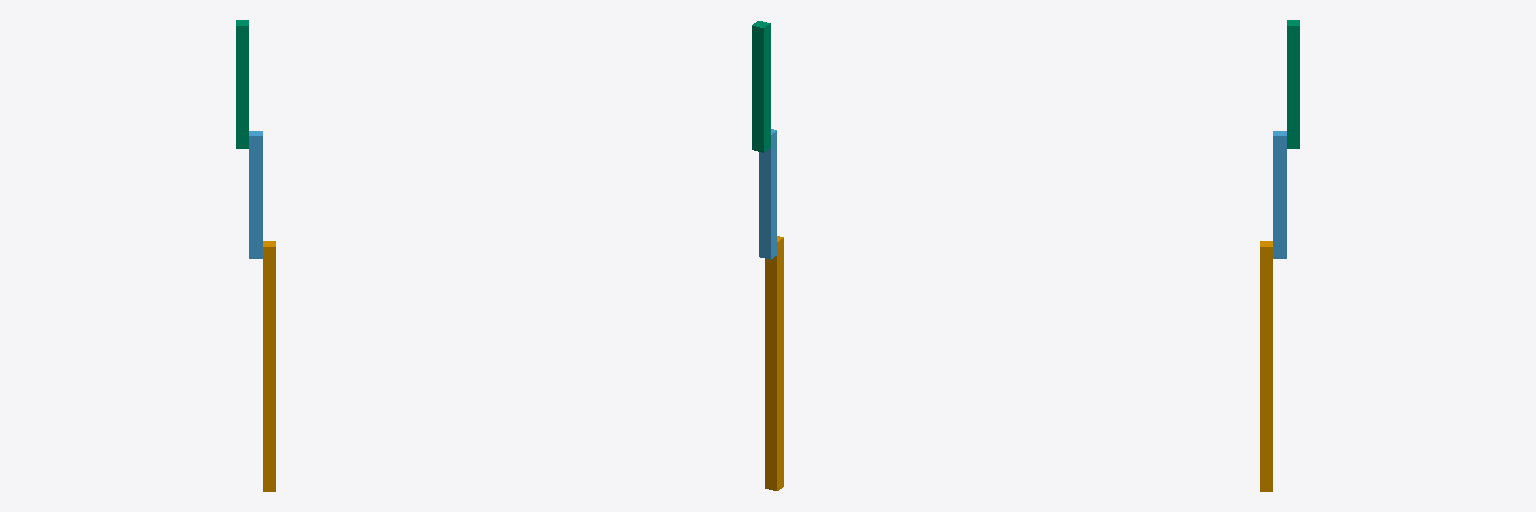
URDF robot description (manipulator):
<?xml version="1.0" encoding="utf-8"?>
<!-- =================================================================================== -->
<!-- |    This document was autogenerated by xacro from man.xacro                      | -->
<!-- |    EDITING THIS FILE BY HAND IS NOT RECOMMENDED                                 | -->
<!-- =================================================================================== -->
<robot name="manipulator" xmlns:xacro="http://www.ros.org/wiki/xacro">
  <!-- Base Link -->
  <link name="base_link">
    <visual>
      <origin rpy="0 0 0" xyz="0 0 1.0"/>
      <geometry>
        <box size="0.1 0.1 2"/>
      </geometry>
    </visual>
    <collision>
      <origin rpy="0 0 0" xyz="0 0 1.0"/>
      <geometry>
        <box size="0.1 0.1 2"/>
      </geometry>
    </collision>
    <inertial>
      <origin rpy="0 0 0" xyz="0 0 1.0"/>
      <mass value="1"/>
      <inertia ixx="1.0" ixy="0.0" ixz="0.0" iyy="1.0" iyz="0.0" izz="1.0"/>
    </inertial>
  </link>
  <!-- Joint between Base Link and Middle Link -->
  <joint name="joint_base_mid" type="revolute">
    <parent link="base_link"/>
    <child link="mid_link"/>
    <origin rpy="0 0 0" xyz="0 0.1 1.95"/>
    <axis xyz="0 1 0"/>
    <dynamics damping="0.7"/>
    <limit effort="100.0" lower="-3.14" upper="3.14" velocity="0.5"/>
  </joint>
  <!-- Middle Link -->
  <link name="mid_link">
    <visual>
      <origin rpy="0 0 0" xyz="0 0 0.45"/>
      <geometry>
        <box size="0.1 0.1 1"/>
      </geometry>
    </visual>
    <collision>
      <origin rpy="0 0 0" xyz="0 0 0.45"/>
      <geometry>
        <box size="0.1 0.1 1"/>
      </geometry>
    </collision>
    <inertial>
      <origin rpy="0 0 0" xyz="0 0 0.45"/>
      <mass value="1"/>
      <inertia ixx="1.0" ixy="0.0" ixz="0.0" iyy="1.0" iyz="0.0" izz="1.0"/>
    </inertial>
  </link>
  <!-- Joint between Middle Link and Top Link -->
  <joint name="joint_mid_top" type="revolute">
    <parent link="mid_link"/>
    <child link="top_link"/>
    <origin rpy="0 0 0" xyz="0 0.1 0.9"/>
    <axis xyz="0 1 0"/>
    <dynamics damping="0.7"/>
    <limit effort="100.0" lower="-3.14" upper="3.14" velocity="0.5"/>
  </joint>
  <!-- Top Link -->
  <link name="top_link">
    <visual>
      <origin rpy="0 0 0" xyz="0 0 0.45"/>
      <geometry>
        <box size="0.1 0.1 1"/>
      </geometry>
    </visual>
    <collision>
      <origin rpy="0 0 0" xyz="0 0 0.45"/>
      <geometry>
        <box size="0.1 0.1 1"/>
      </geometry>
    </collision>
    <inertial>
      <origin rpy="0 0 0" xyz="0 0 0.45"/>
      <mass value="1"/>
      <inertia ixx="1.0" ixy="0.0" ixz="0.0" iyy="1.0" iyz="0.0" izz="1.0"/>
    </inertial>
  </link>
</robot>

--- Render facts (derived) ---
3 views of the same robot in one strip: view 1: azimuth 90°, elevation 25°; view 2: azimuth 150°, elevation 25°; view 3: azimuth 270°, elevation 25° (orthographic).
Model manipulator with 3 links and 2 joints (2 revolute), rooted at base_link, posed all joints at 0.
Visible links, largest first — view 1: base_link, mid_link, top_link; view 2: base_link, top_link, mid_link; view 3: base_link, mid_link, top_link.
Boxes of the visible links, x1,y1,x2,y2 form: base_link: [263, 241, 275, 491]; mid_link: [249, 131, 262, 258]; top_link: [236, 20, 248, 148]; base_link: [765, 236, 783, 490]; top_link: [752, 21, 770, 152]; mid_link: [759, 129, 776, 259]; base_link: [1260, 241, 1272, 491]; mid_link: [1273, 131, 1286, 258]; top_link: [1287, 20, 1299, 148].
Size in the robot's own frame: 0.1 by 0.3 by 3.8 metres.
Geometry: primitives only (box / cylinder / sphere), no mesh files.
